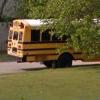Bus: (8, 12, 99, 69)
